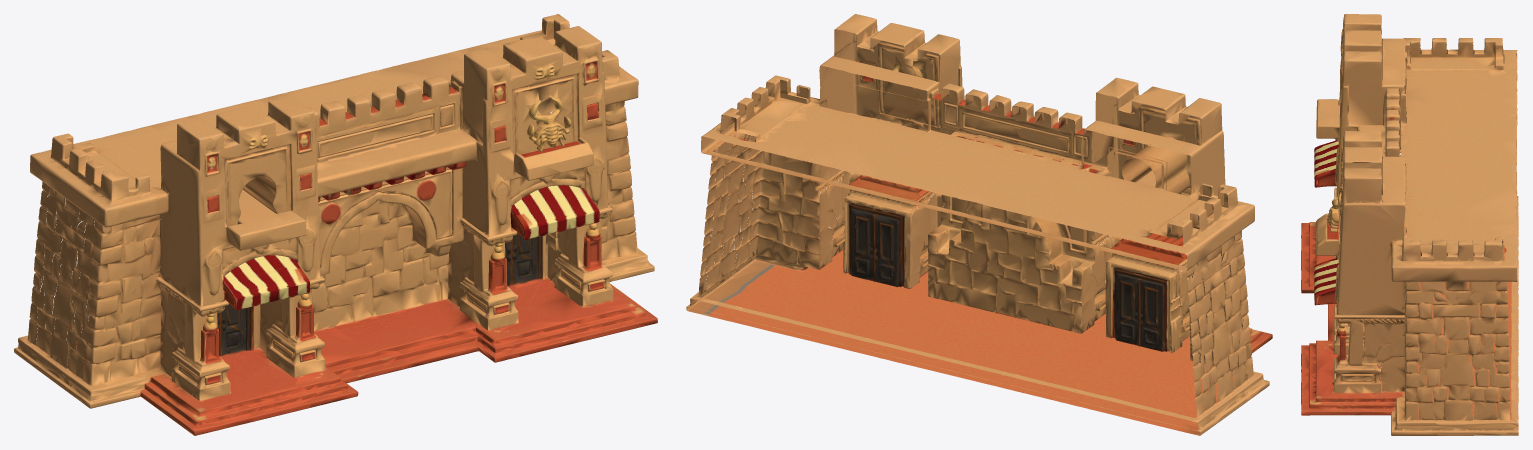
Rendered from desert_bay.glb.
The picture shows the model from 3 angles, left to right: view 1: azimuth 30°, elevation 25°; view 2: azimuth 150°, elevation 25°; view 3: azimuth 270°, elevation 25°; orthographic projection. The views are drawn at different scales.
Bounding box in the file's own units: 1.9 × 0.8708 × 0.7607.
Materials: 1 (1 with a texture image).
